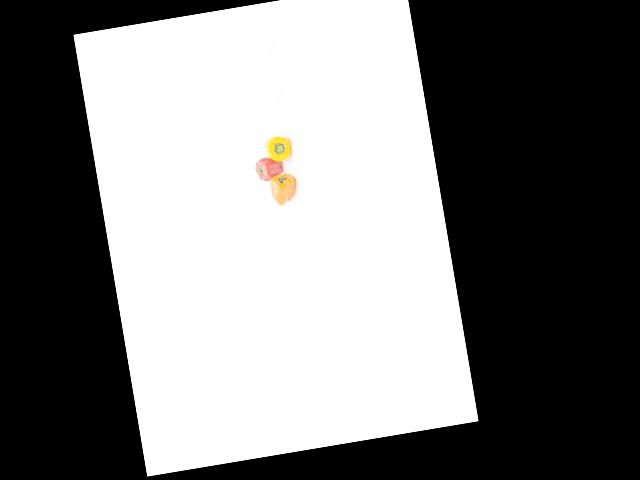bell_pepper: (261, 132, 294, 167)
